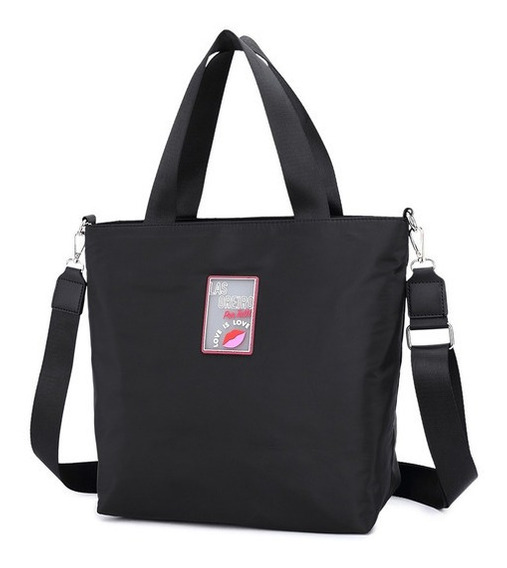cartera: (80, 28, 412, 536)
